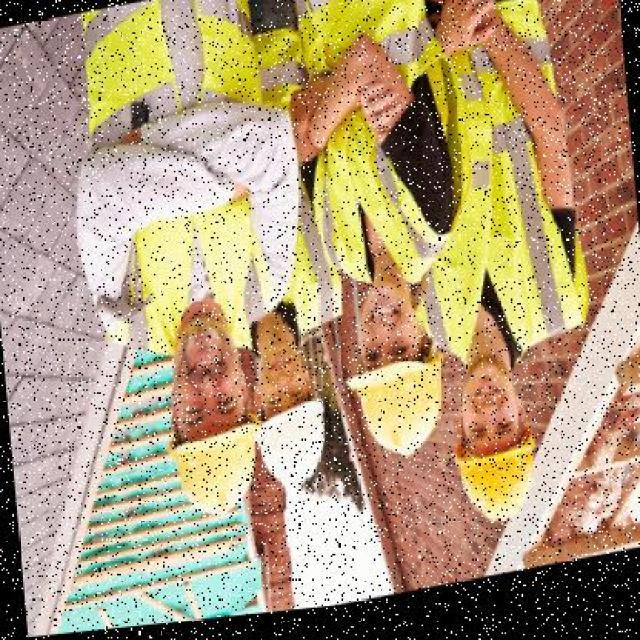helmet: (343, 345, 454, 475), (165, 409, 267, 533), (445, 431, 545, 545), (256, 394, 333, 508)
vest: (76, 0, 276, 351), (411, 18, 589, 372), (286, 0, 454, 300)
